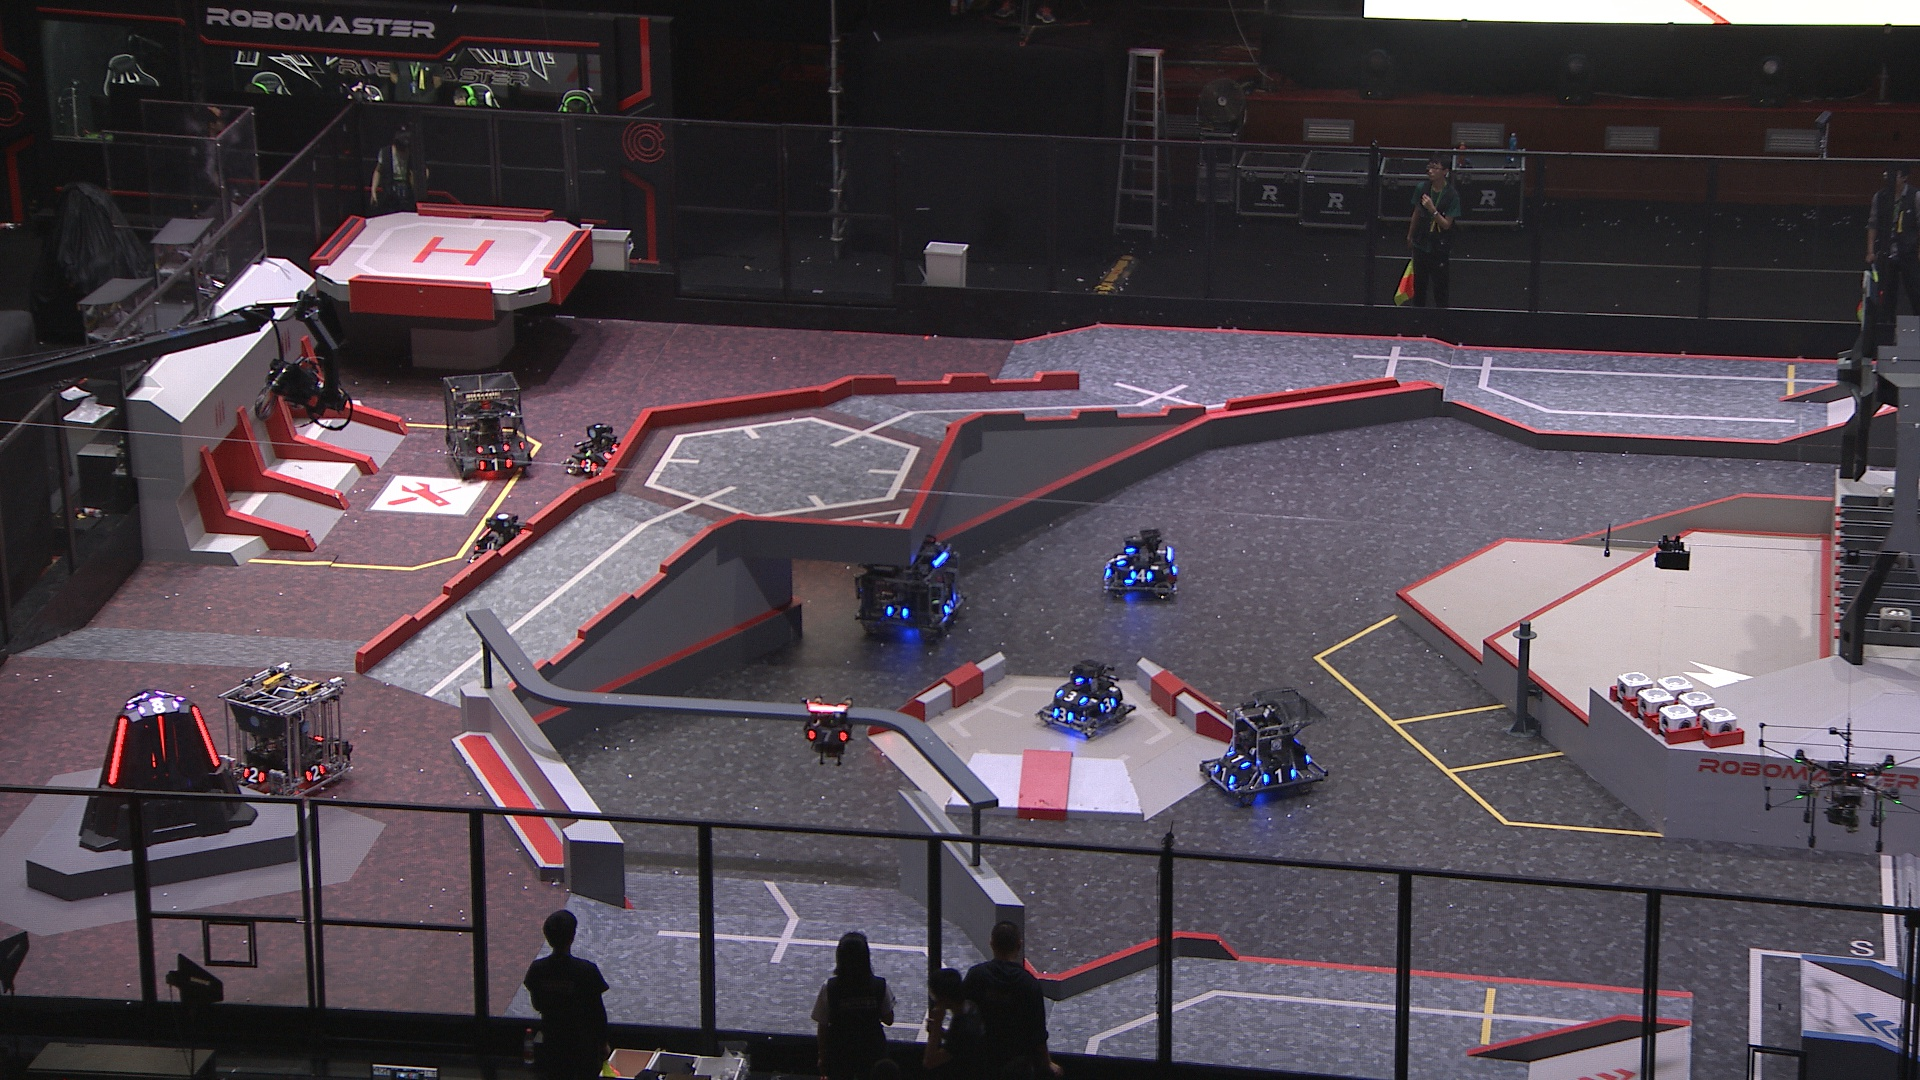armor: (190, 705, 220, 770), (105, 713, 129, 785), (806, 727, 849, 745), (1225, 749, 1251, 773), (1262, 767, 1298, 785), (1211, 765, 1236, 789), (156, 713, 167, 764), (1058, 688, 1087, 707), (477, 456, 513, 471), (305, 764, 327, 785), (243, 765, 264, 787), (476, 442, 508, 456), (885, 604, 909, 621), (1100, 694, 1120, 713), (1054, 707, 1073, 727), (942, 595, 959, 617), (1130, 570, 1155, 584), (1112, 546, 1127, 567), (604, 442, 618, 462), (579, 458, 599, 472)
base: (74, 684, 258, 853)
car: (215, 665, 359, 796), (1199, 684, 1331, 804), (847, 533, 965, 651), (440, 371, 531, 483), (1035, 655, 1134, 740), (1101, 524, 1182, 600), (463, 510, 541, 584), (562, 422, 632, 487)
ignore: (136, 695, 178, 713)
watcher: (800, 698, 858, 764)
